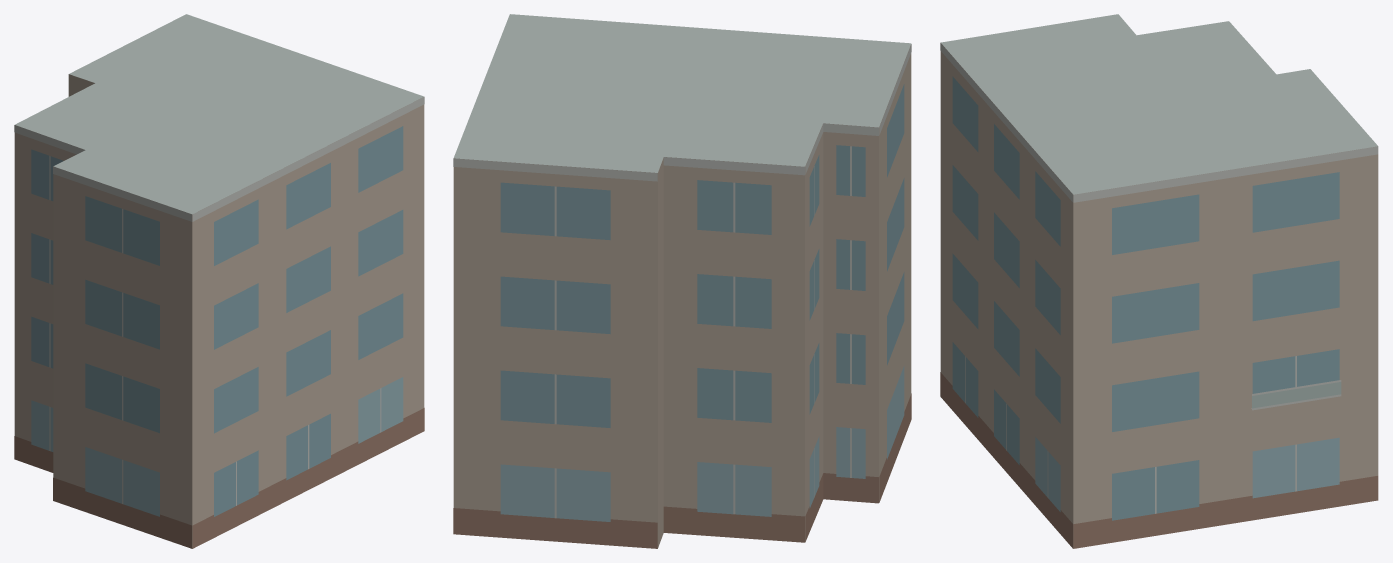
Rendered from survey-upis-32722154.glb.
The picture shows the model from 3 angles, left to right: view 1: azimuth 30°, elevation 25°; view 2: azimuth 150°, elevation 25°; view 3: azimuth 270°, elevation 25°; orthographic projection. The views are drawn at different scales.
Parts seen in each view (by area): view 1: survey-upis-32722154.tmp; view 2: survey-upis-32722154.tmp; view 3: survey-upis-32722154.tmp.
Part boxes in pixels (x1,y1,x2,y2): survey-upis-32722154.tmp: (14, 14, 424, 548); survey-upis-32722154.tmp: (453, 14, 911, 548); survey-upis-32722154.tmp: (940, 14, 1378, 548).
Size of the model in its own units: 11.72 by 10.7 by 12.
